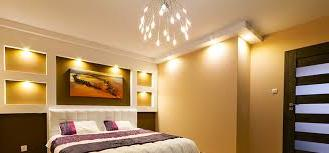bed: (49, 105, 199, 153)
door: (283, 47, 329, 153)
light: (137, 0, 196, 48), (160, 55, 184, 77), (209, 37, 227, 58), (21, 44, 37, 64), (238, 34, 253, 55), (68, 53, 84, 72), (17, 78, 36, 92), (107, 62, 126, 76), (140, 67, 150, 83), (139, 90, 150, 99)
